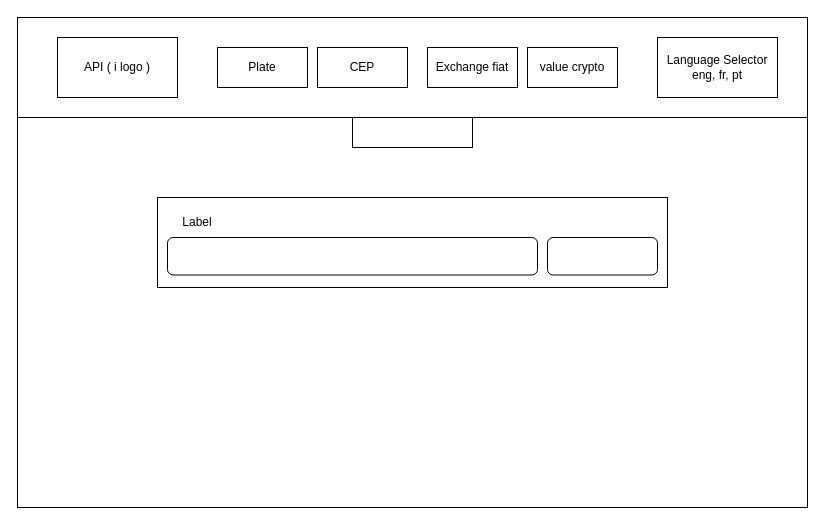
This 825x525 diagram has some shape labels left out. Each missing label, with the centre of its shape:
"SearchBar" belongs at point 352,255.
"Submit" belongs at point 602,255.
"TopNav, collapses, shows on hover" belongs at point 412,132.
